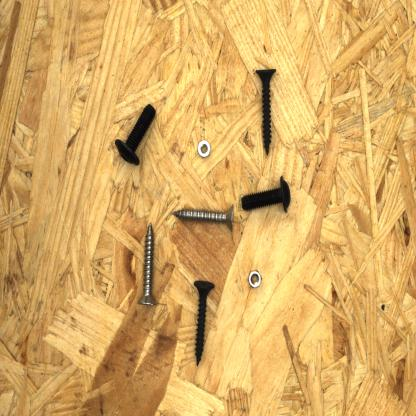screw: (110, 100, 160, 168), (188, 274, 218, 371), (253, 61, 282, 158), (237, 168, 296, 214), (136, 217, 164, 310), (168, 197, 238, 234)
